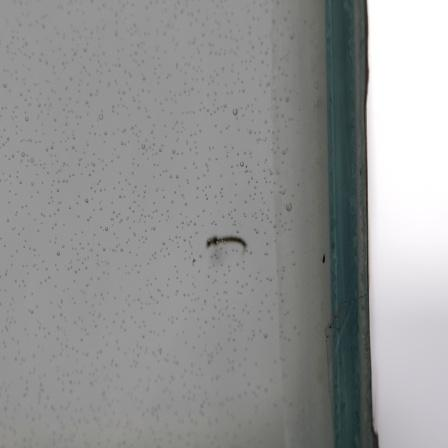Jentik-Nyamuk: (203, 231, 253, 258)
